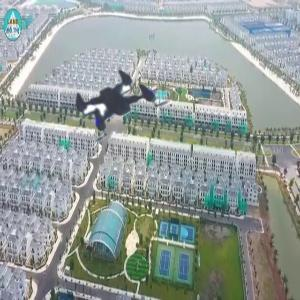drone: (39, 27, 192, 180)
